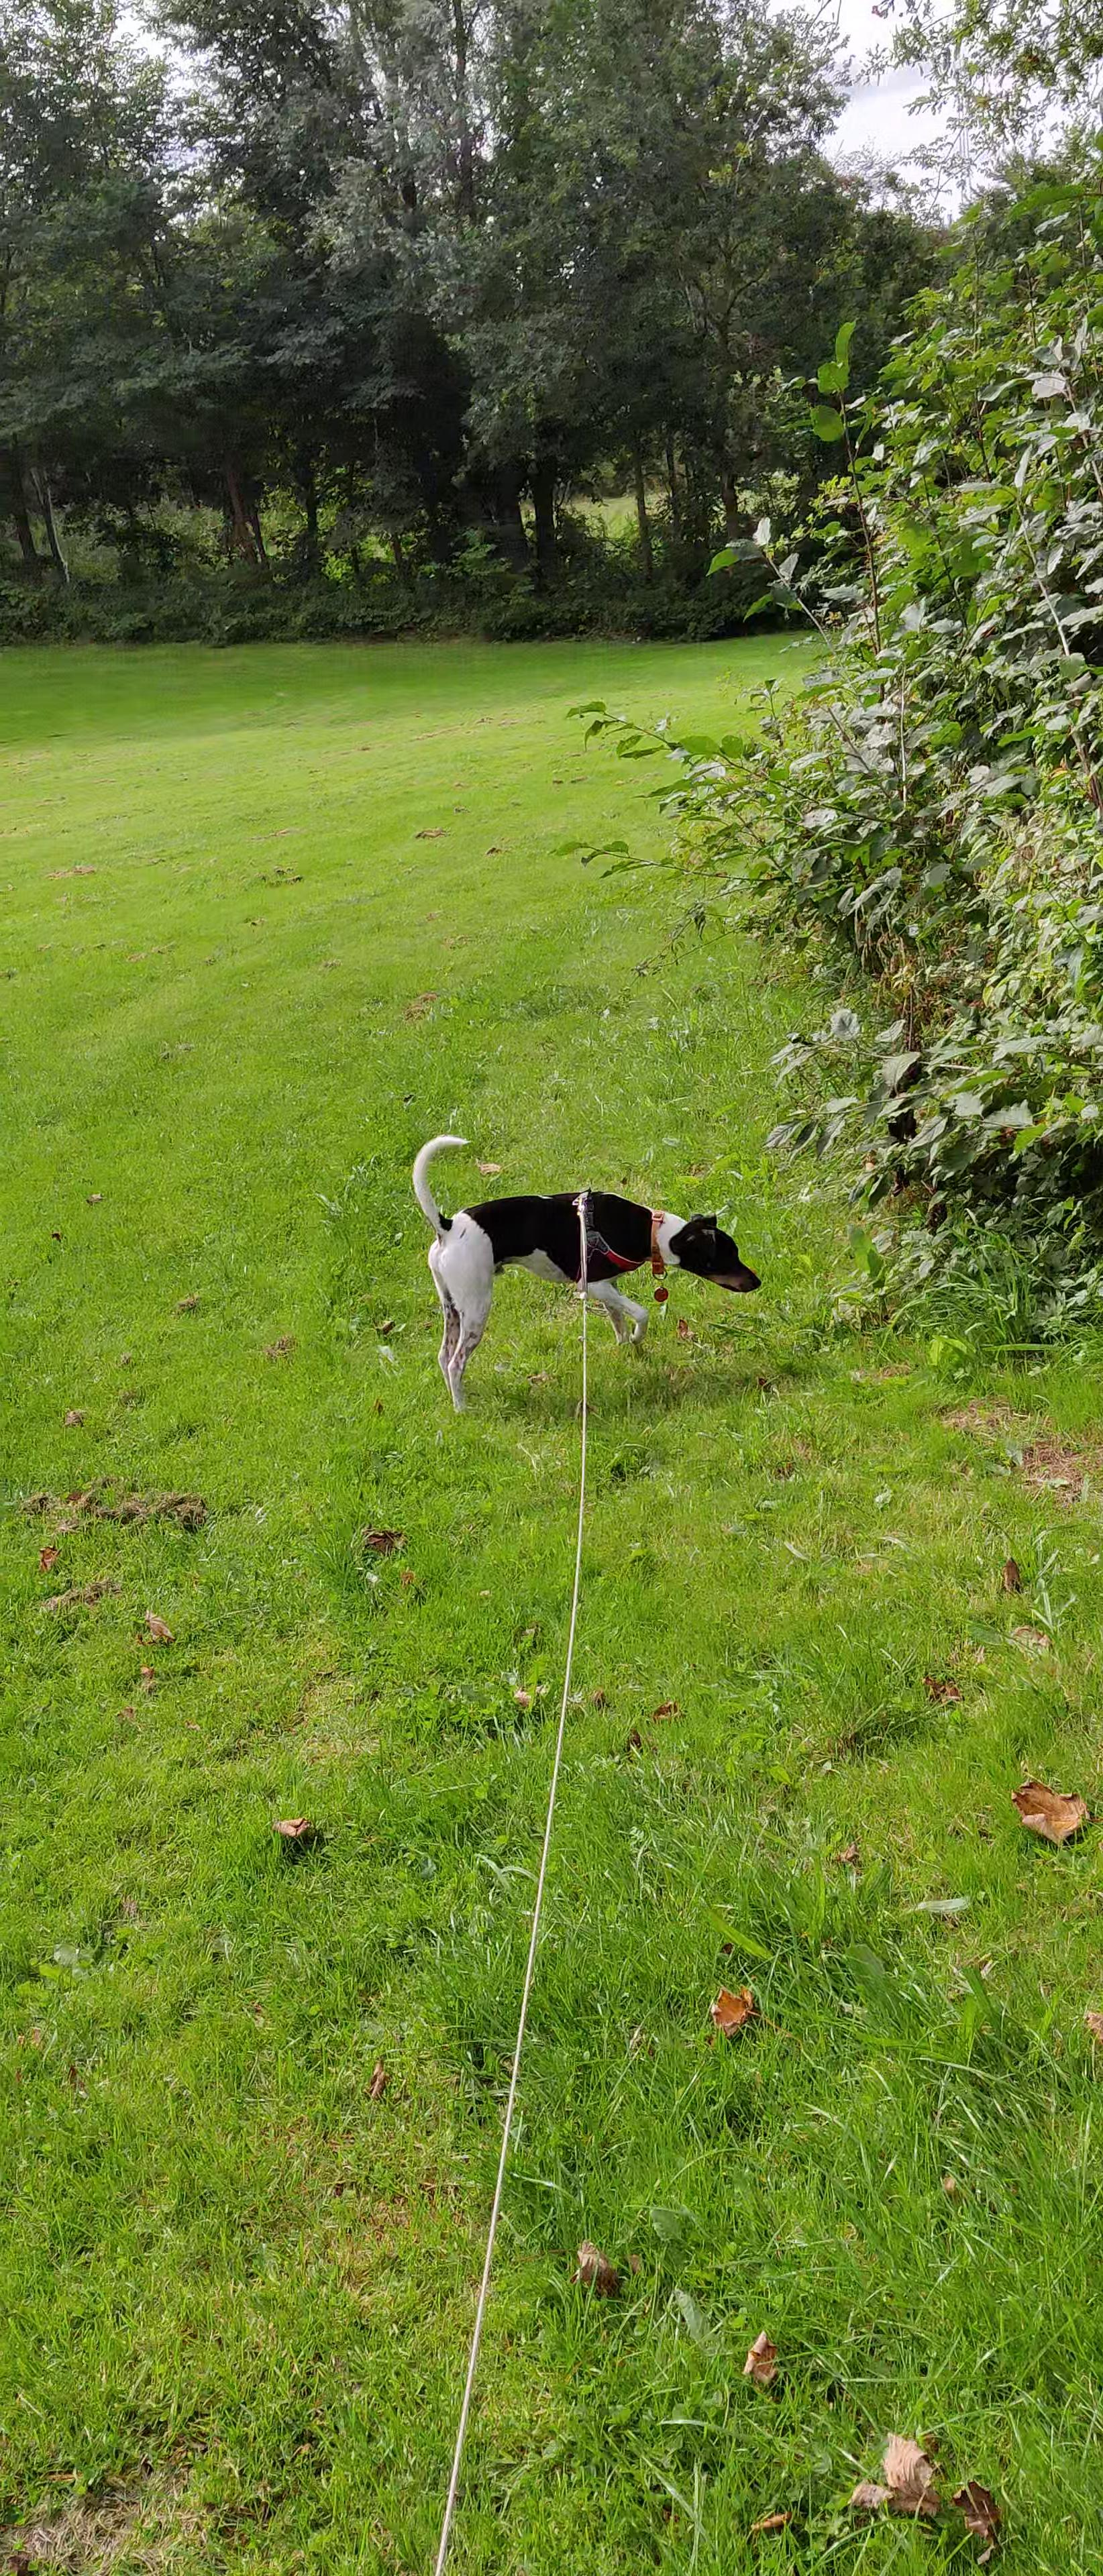Dog: (408, 1132, 764, 1418)
